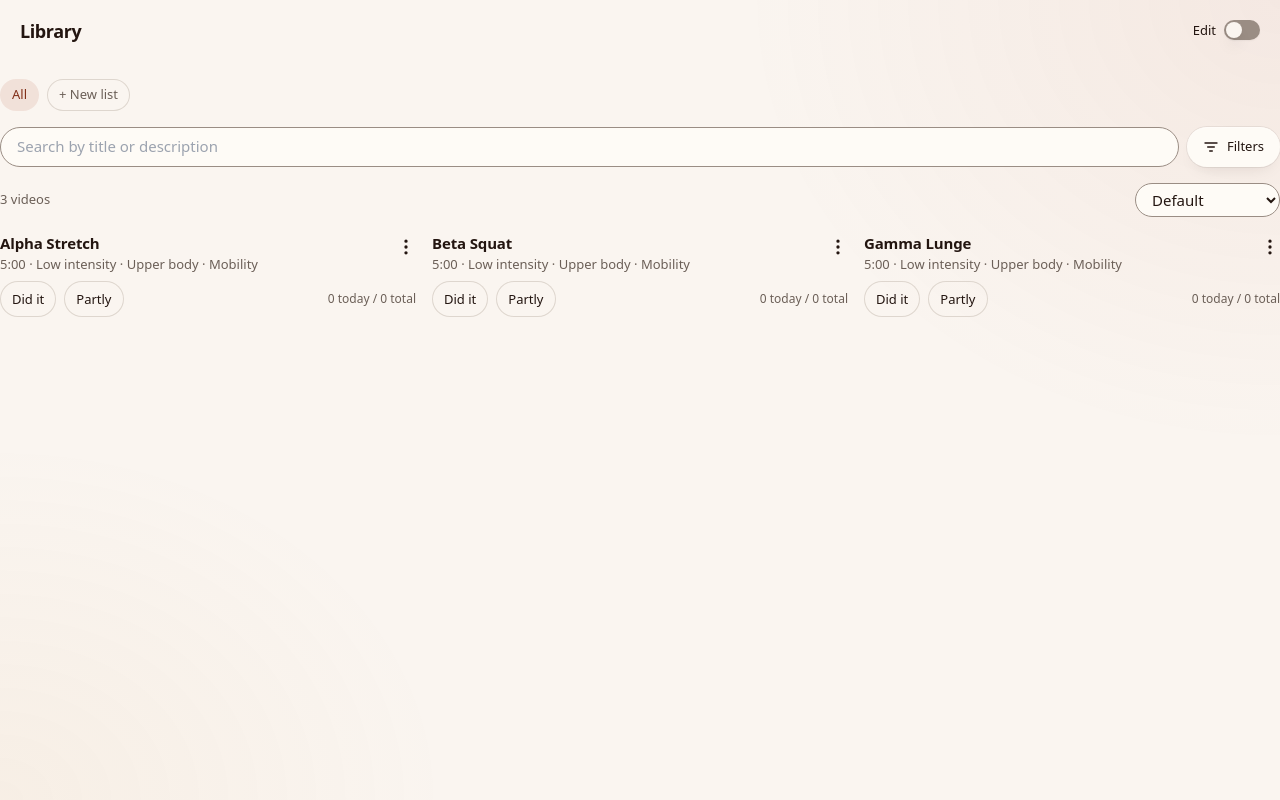
Test case: edits an exercise from its row
Check: the heading "Alpha Stretch" is shown, box [0,232,100,252]
Click the switch named "edit": (1242, 30) [1224,20,1260,40]
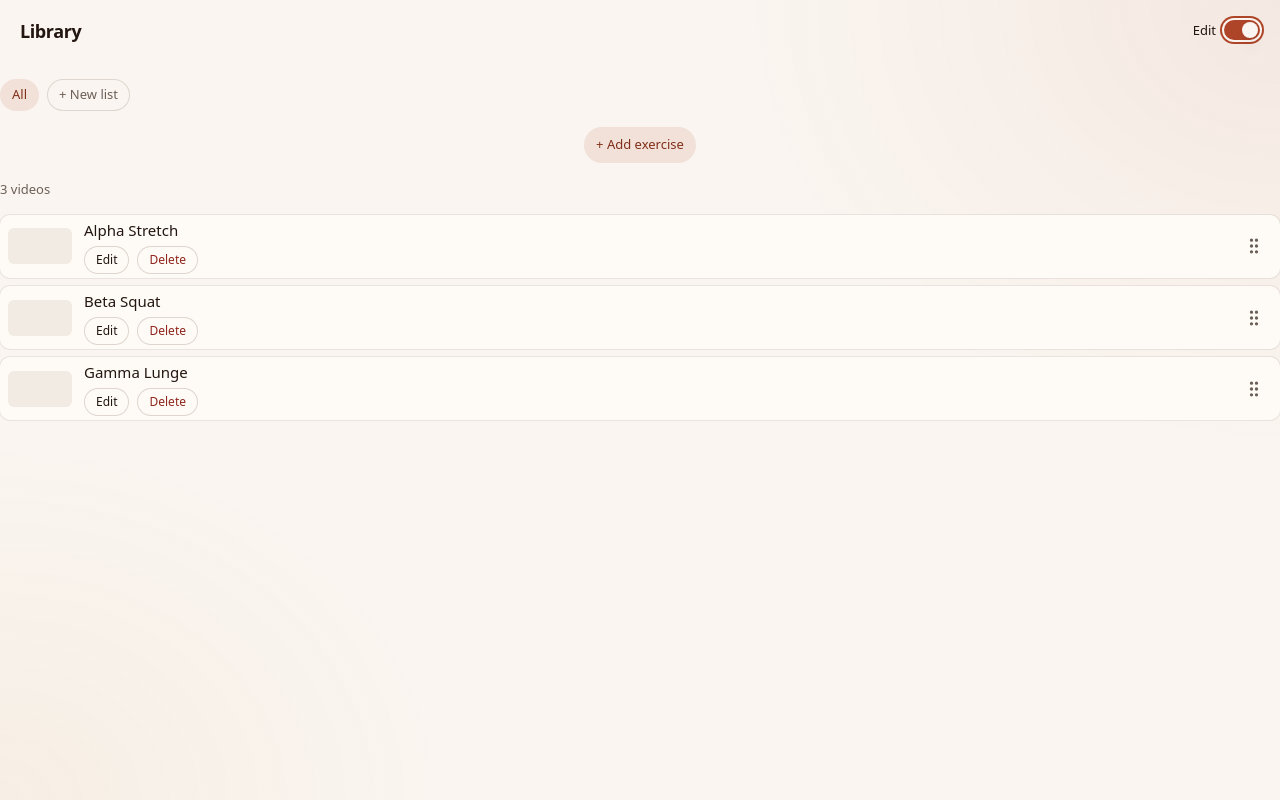
Click the button with aria-label "Edit Alpha Stretch": (107, 260) [84,246,130,274]
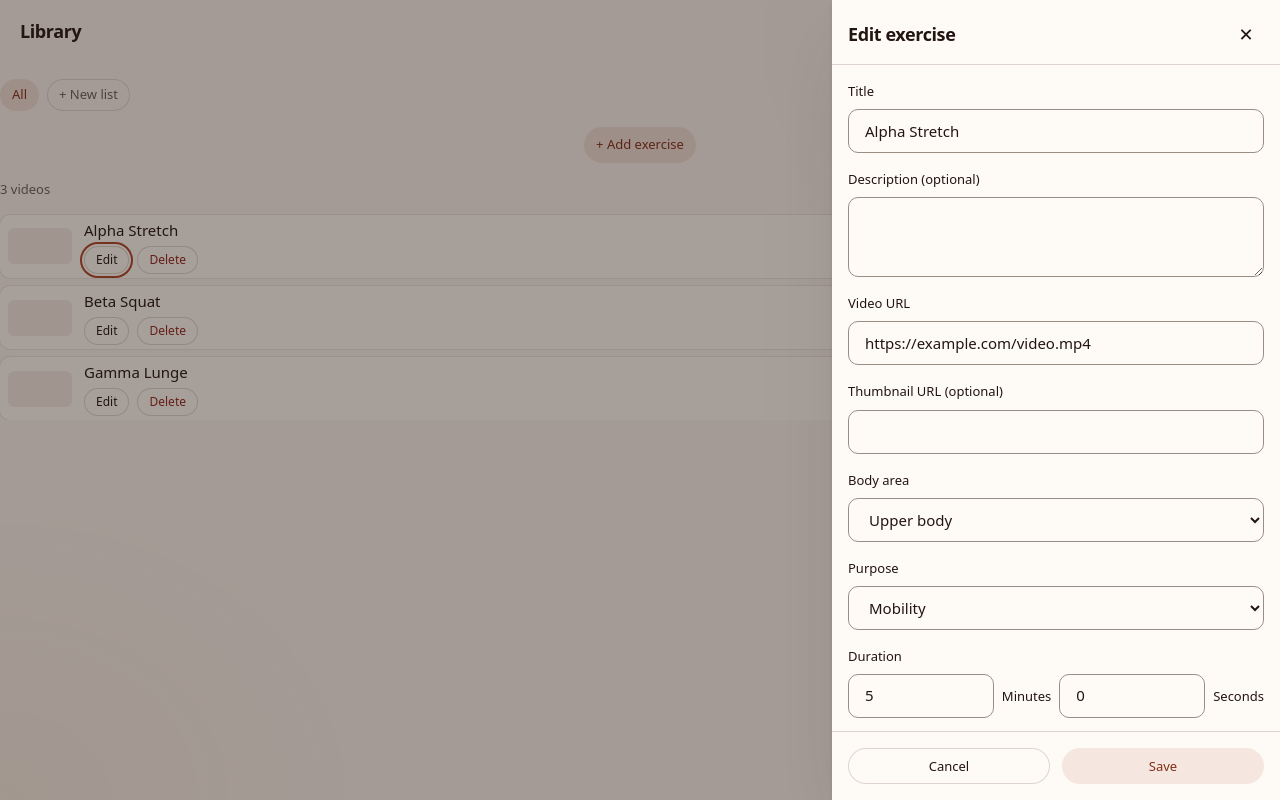
Replace the text in the field labelled "Title" with "Alpha Stretch Long": (1056, 131) [848,109,1264,153]
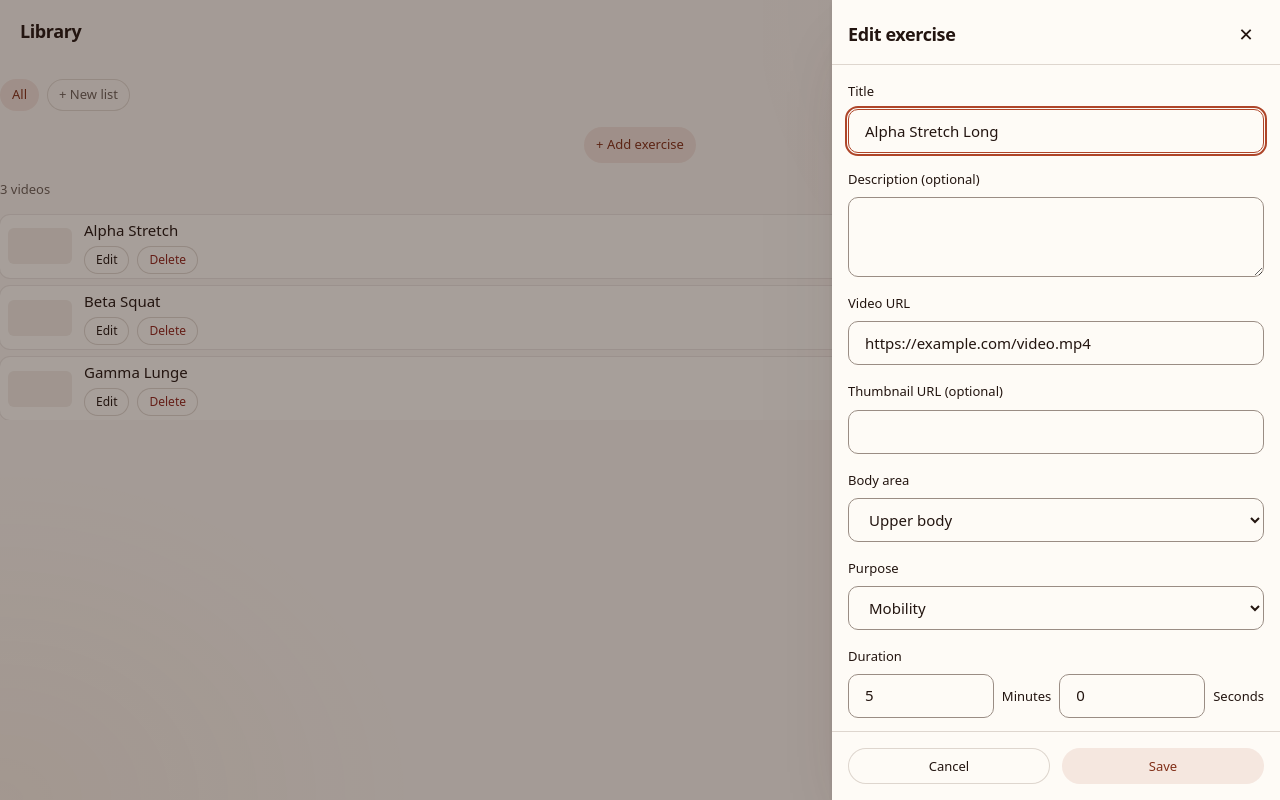
Click the button "Save": (1163, 766) [1062,748,1264,784]
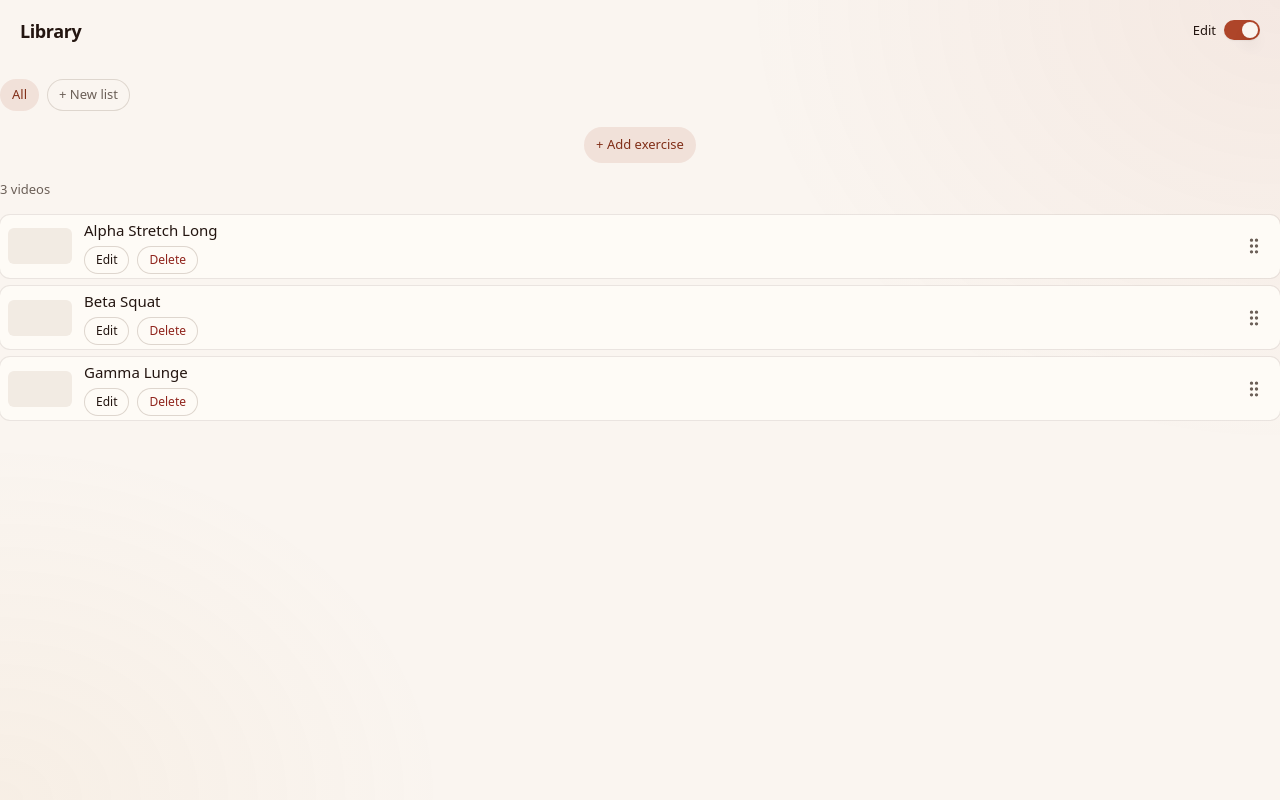
Check: the text "Alpha Stretch Long" is shown, box [84,220,218,240]
